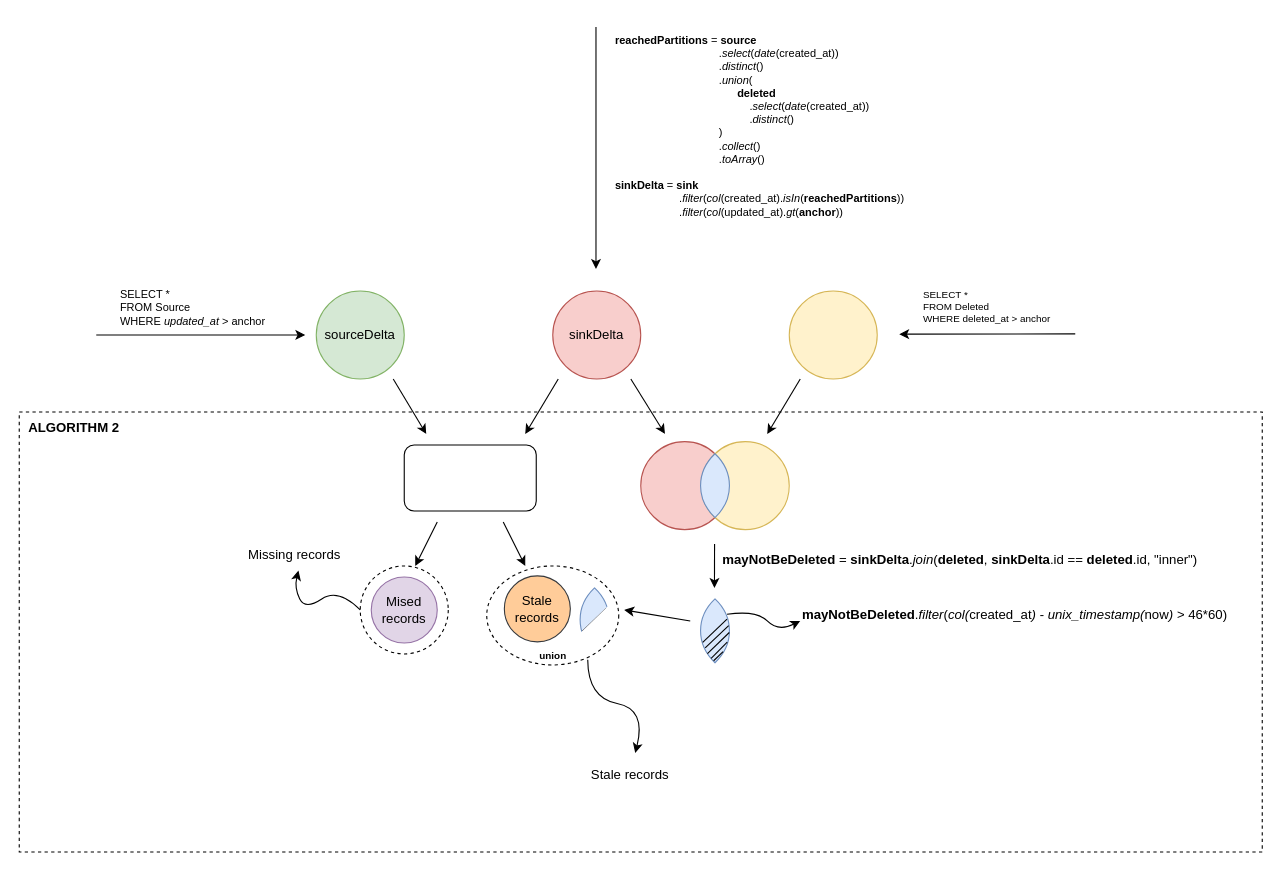
Image size: 1282x871. Some labels were removed from this diagram. The shapes that lost their labels are listed below. From the top down, each one's centre as x and y in pixels, then its label:
pixel 832 334: deleted
pixel 469 477: ALGORITHM 1
